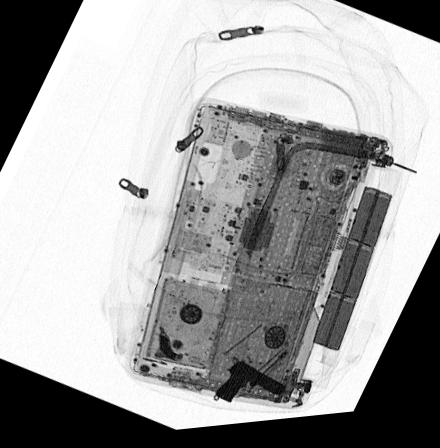Gun: (214, 367, 286, 407)
